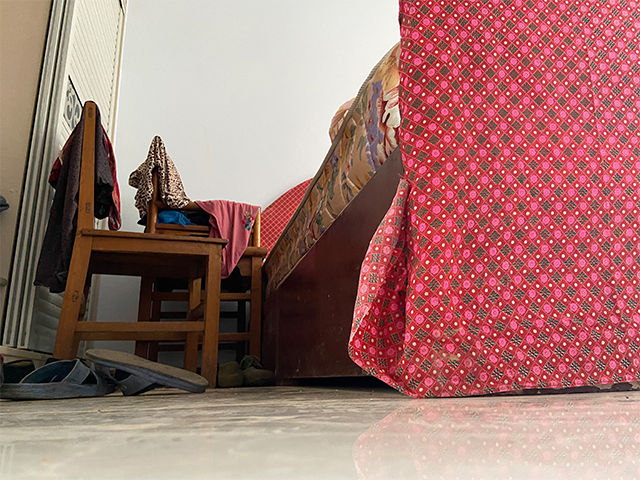bed: (260, 1, 640, 398)
slippers: (85, 345, 204, 399), (2, 357, 109, 401)
stool: (51, 101, 230, 390)
